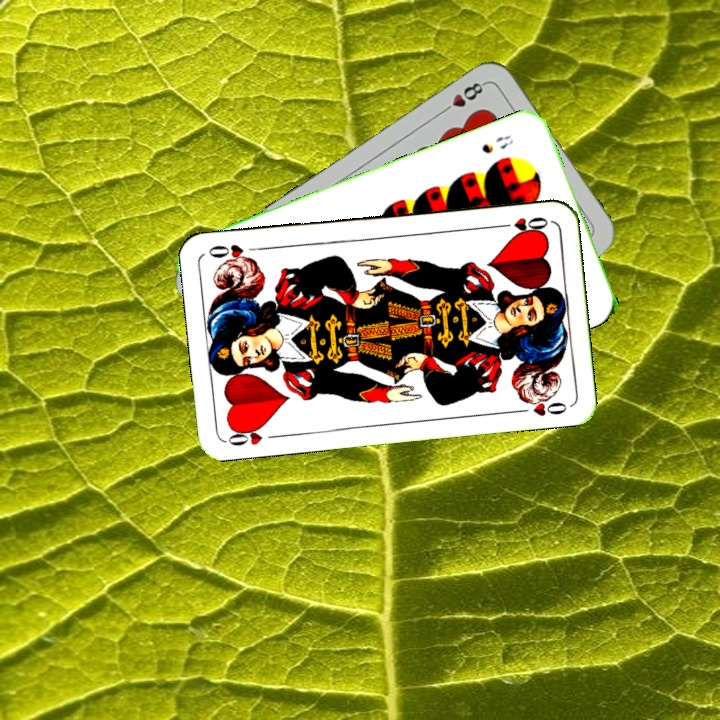H8: (437, 78, 489, 117)
HO: (224, 421, 282, 449), (493, 212, 551, 236)
S8: (477, 131, 516, 156)
